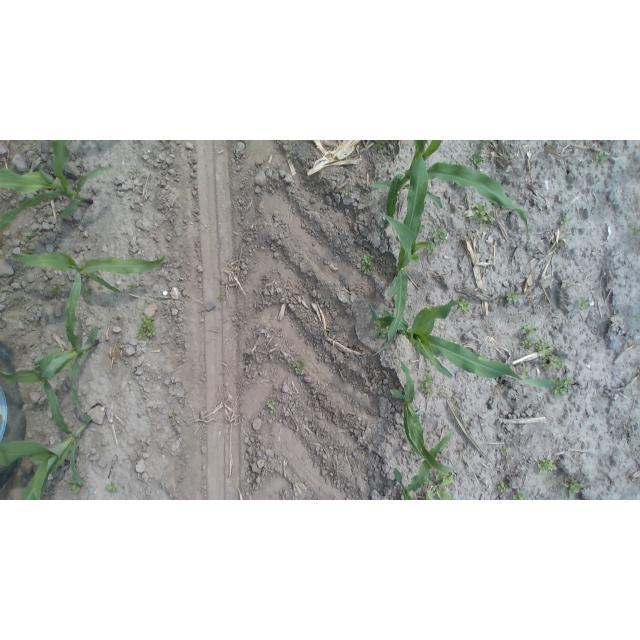Maize: (369, 300, 573, 393), (369, 141, 531, 240), (2, 271, 103, 411), (372, 141, 436, 356), (2, 378, 93, 500), (1, 140, 112, 230), (390, 362, 463, 474), (9, 250, 167, 295), (393, 420, 456, 500)
Weeds: (521, 332, 554, 359), (519, 324, 545, 355), (427, 472, 455, 500), (137, 314, 160, 341), (474, 205, 497, 228), (521, 324, 540, 351), (551, 376, 575, 397), (420, 371, 437, 397), (564, 475, 584, 497), (537, 456, 559, 474), (360, 253, 377, 276), (541, 354, 564, 371), (468, 150, 485, 170), (432, 225, 449, 244), (593, 149, 609, 168), (66, 478, 82, 494), (456, 299, 471, 316), (374, 323, 389, 339), (496, 481, 513, 494), (50, 283, 65, 297), (577, 297, 591, 312), (505, 291, 520, 305), (511, 489, 530, 500), (293, 359, 305, 375), (106, 480, 119, 494), (560, 214, 572, 227), (266, 399, 278, 411), (629, 224, 639, 237), (478, 141, 496, 148), (82, 286, 92, 298), (554, 239, 566, 249), (497, 445, 509, 455), (422, 477, 432, 488), (521, 366, 530, 378), (128, 284, 139, 293), (24, 230, 34, 239), (345, 186, 353, 197), (418, 223, 426, 234), (218, 293, 227, 302), (628, 315, 637, 322), (171, 411, 178, 419)
